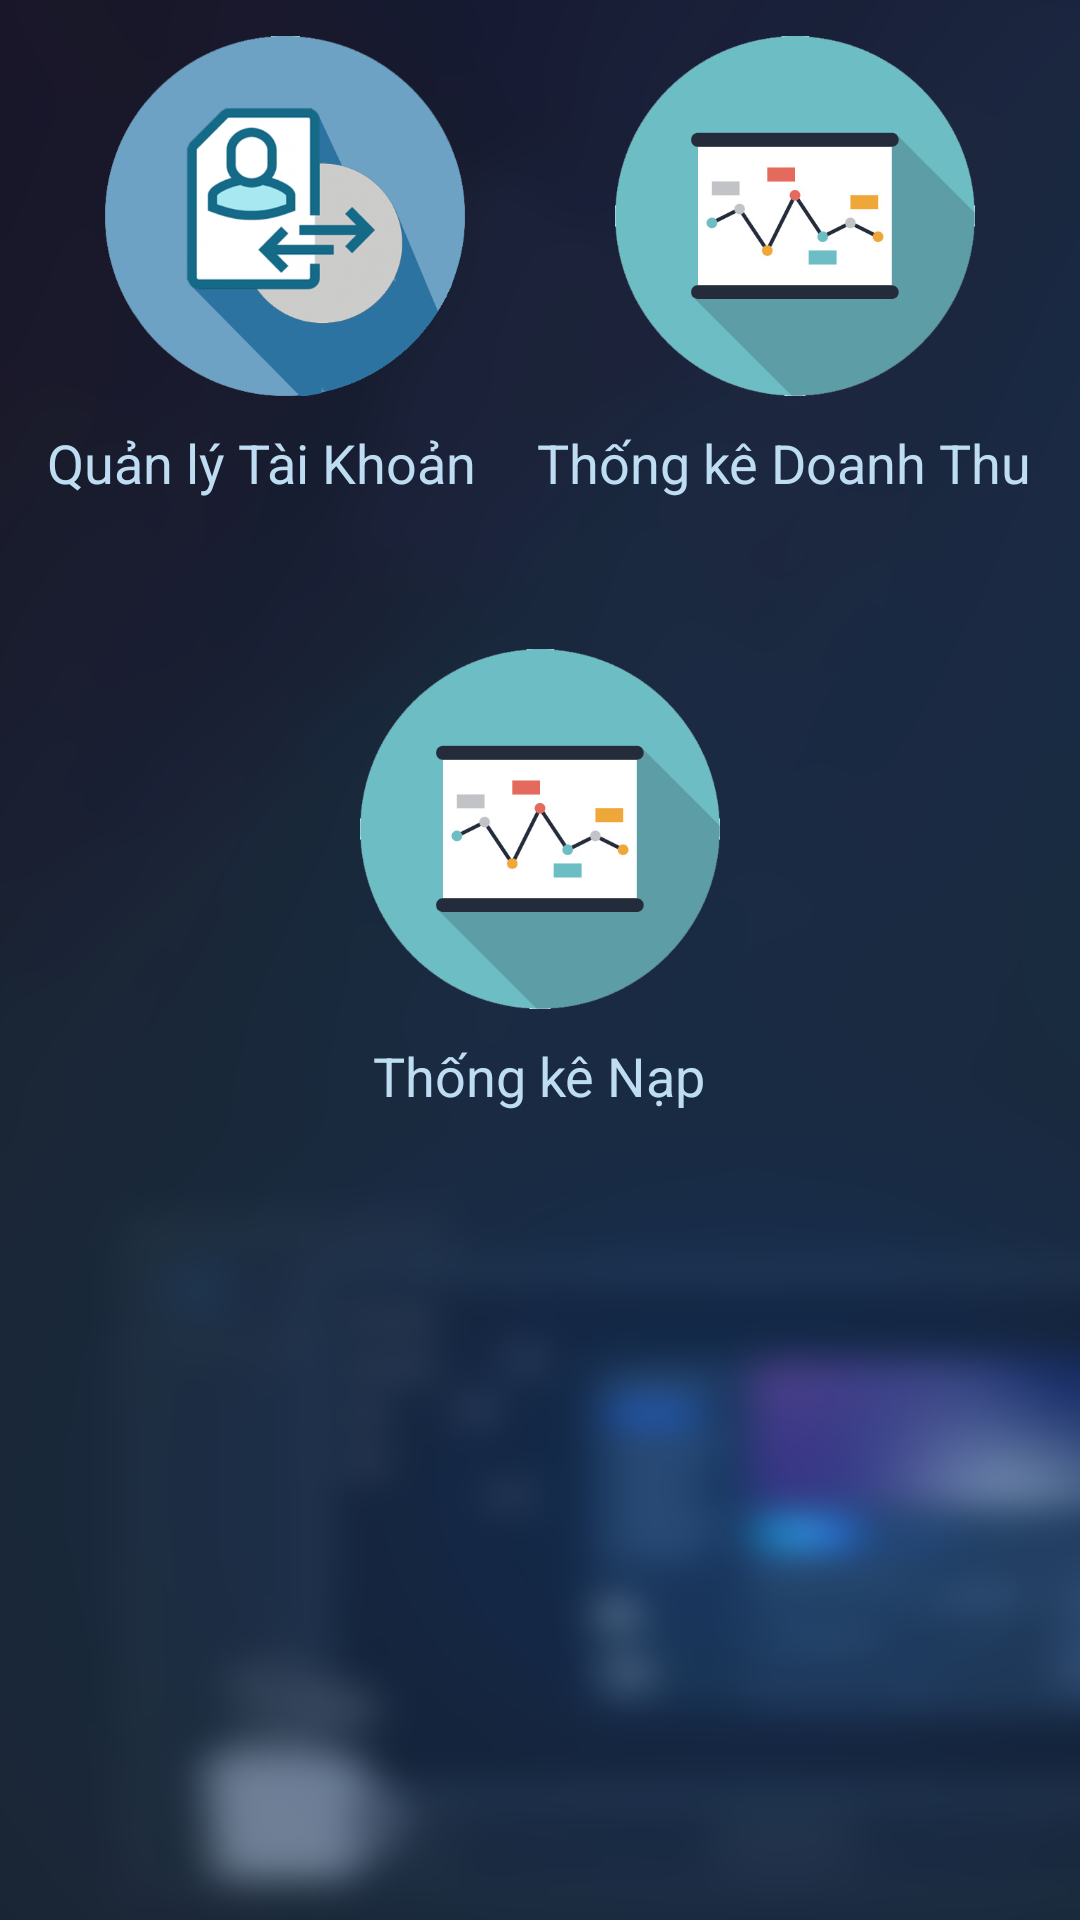

Icon click points for this 1080×1920 phone screenshot, format point (x, y):
acti member: point (285, 216)
